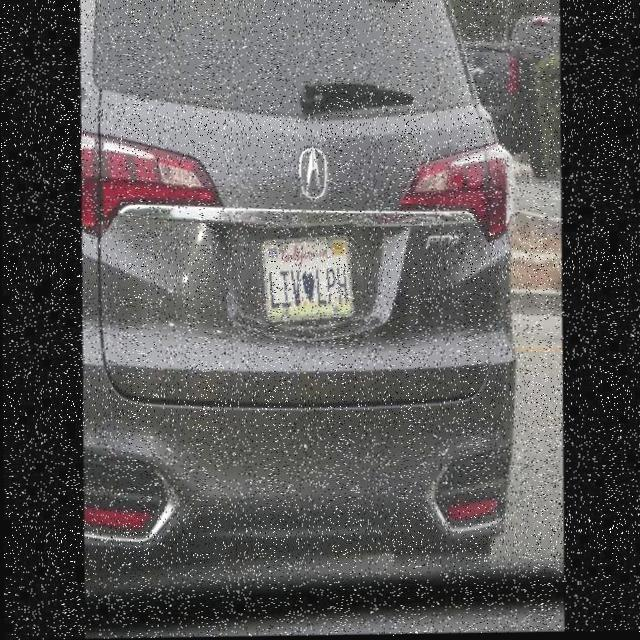LicensePlate: (256, 222, 363, 337)
